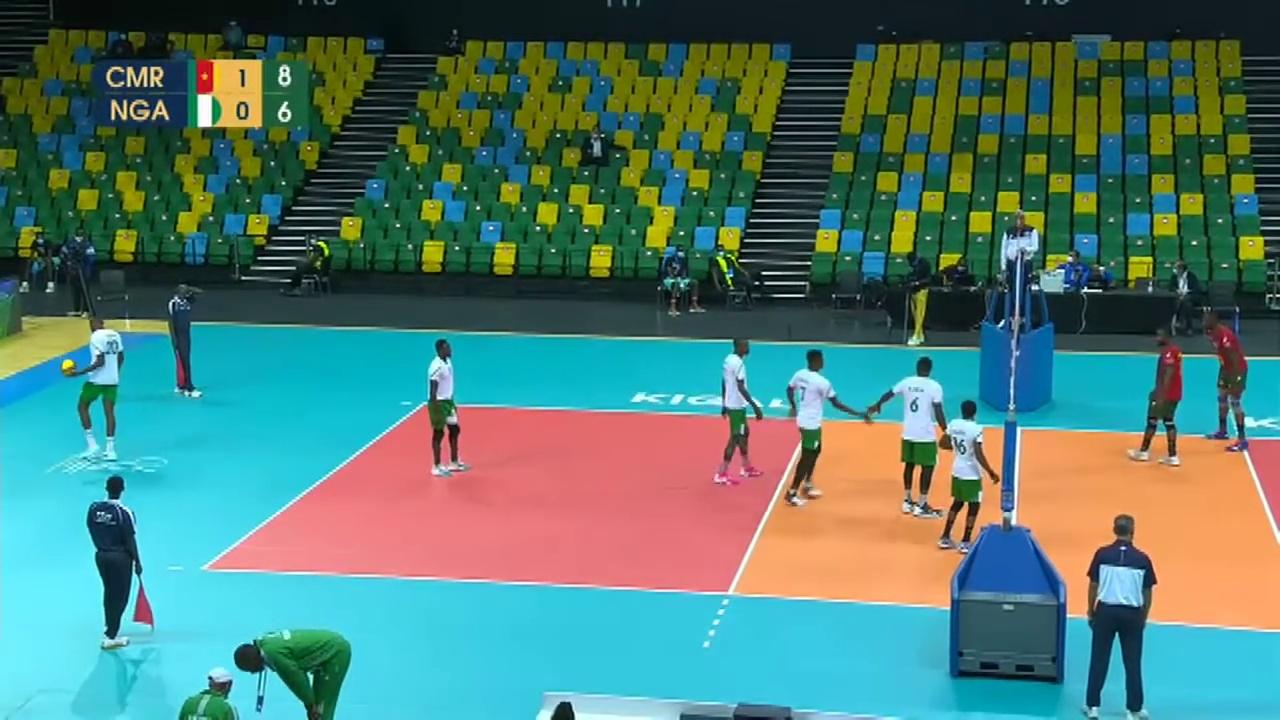player: (779, 352, 870, 502), (866, 361, 950, 514), (939, 402, 1003, 550), (68, 313, 125, 458), (1126, 327, 1186, 464), (716, 338, 765, 486), (425, 340, 470, 474), (1208, 309, 1250, 449)
refree: (1087, 519, 1163, 716), (84, 477, 151, 642), (999, 211, 1043, 320), (165, 285, 202, 399)
